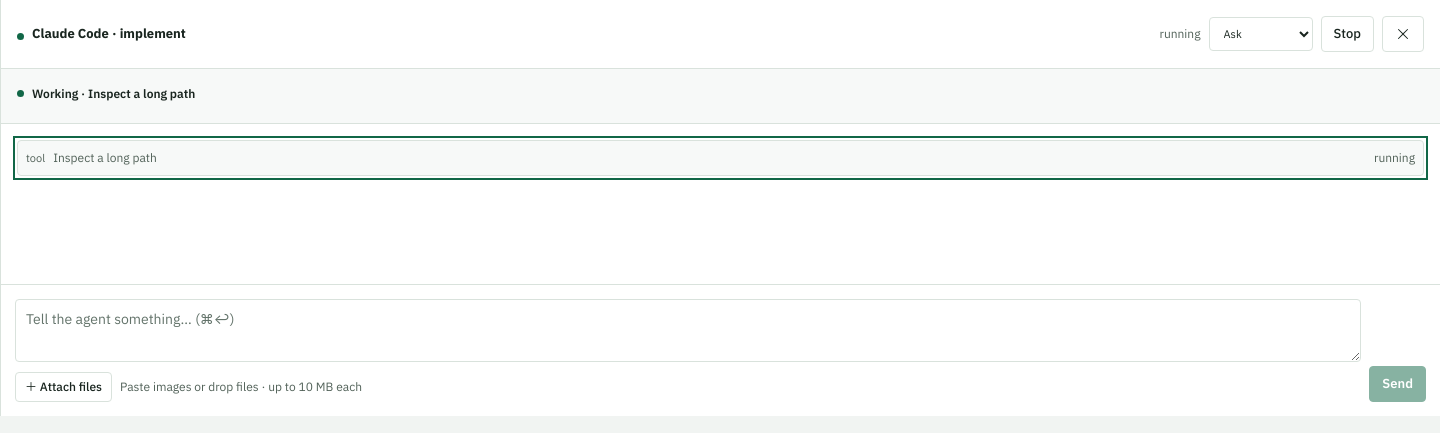
Test: exposes an activity disclosure to keyboard users
This screenshot has width=1440, height=433.
Click the button "tool Inspect a long path running": point(105, 158) [18,141,1423,175]
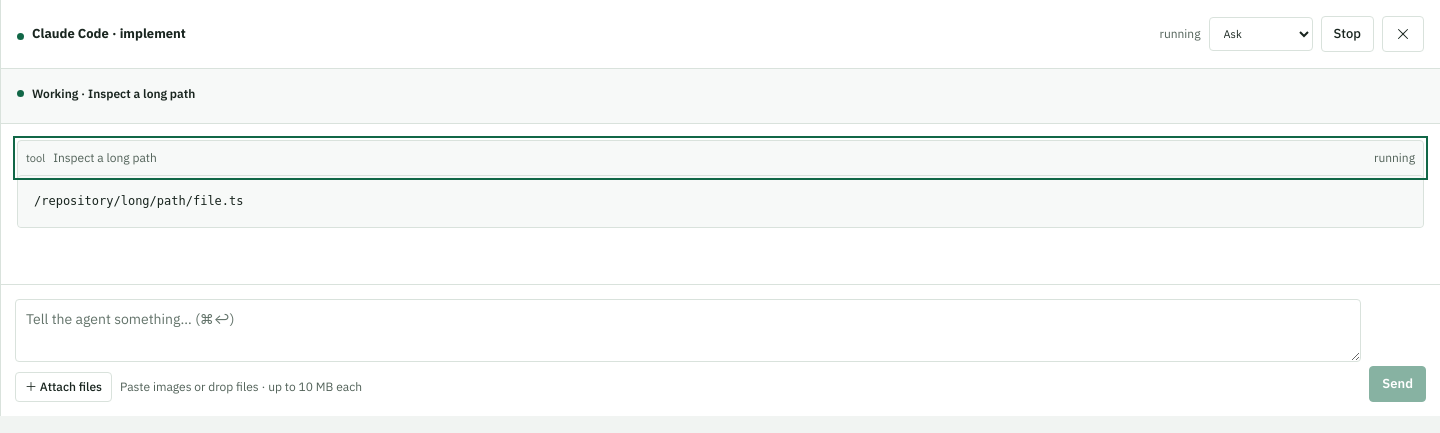
Now the text "/repository/long/path/file.ts" is shown, box [18,175,1423,227]
